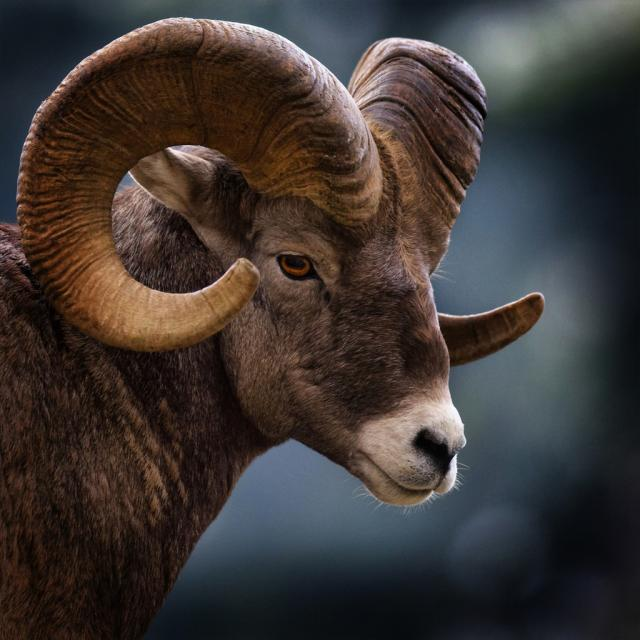Sheep: (0, 5, 559, 631)
